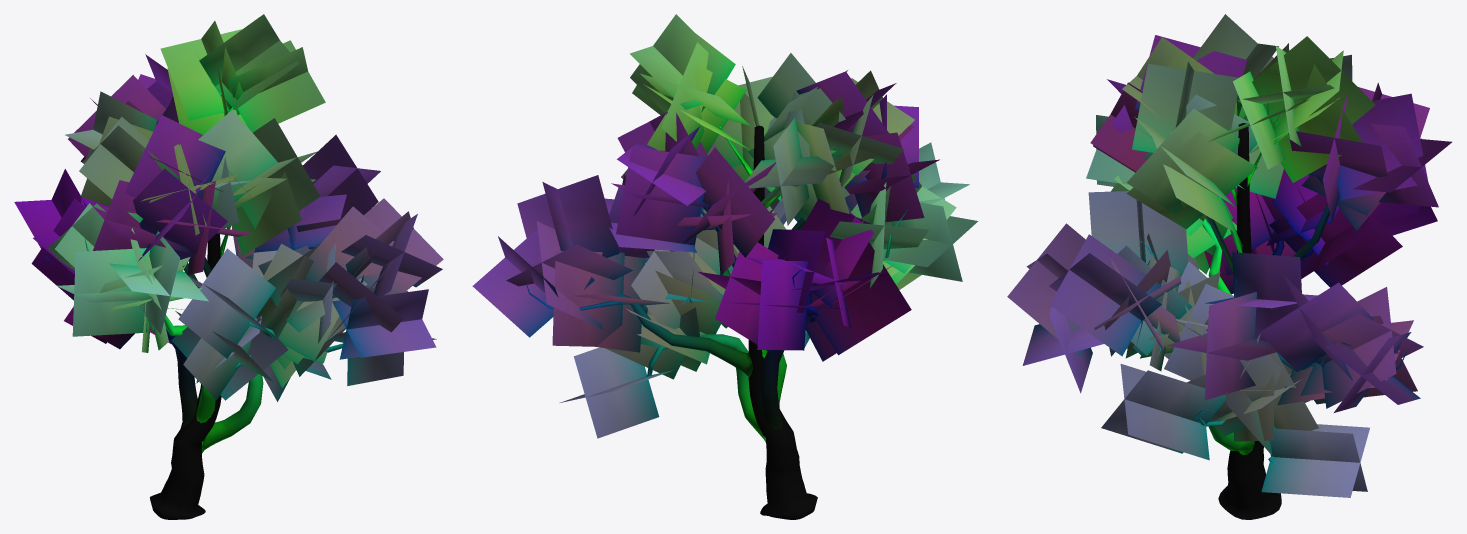
File: URP_P5_Tree_14_LOD_0.fbx
The picture shows the model from 3 angles, left to right: view 1: azimuth 30°, elevation 25°; view 2: azimuth 150°, elevation 25°; view 3: azimuth 270°, elevation 25°; orthographic projection. The views are drawn at different scales.
Visible parts, largest first — view 1: Tree_14_LOD_0; view 2: Tree_14_LOD_0; view 3: Tree_14_LOD_0.
Part boxes in pixels (<box>): Tree_14_LOD_0: <box>14,14,443,519</box>; Tree_14_LOD_0: <box>472,14,978,519</box>; Tree_14_LOD_0: <box>1007,14,1451,519</box>.
Size of the model in its own units: 414 by 491 by 386.
